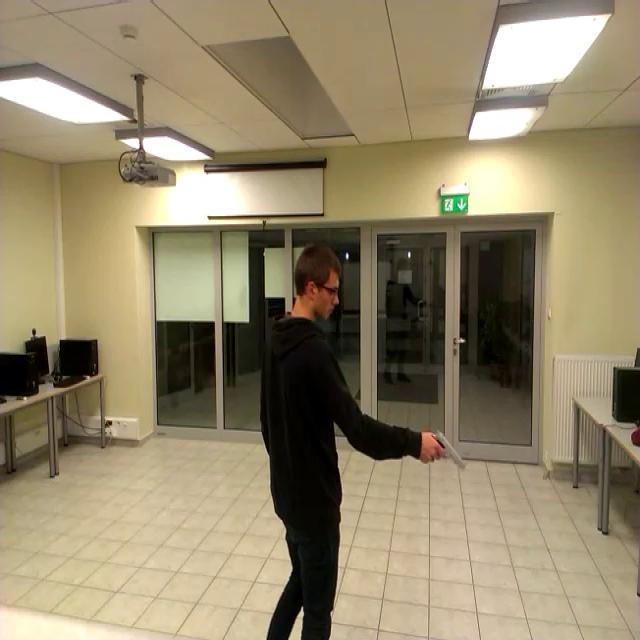Gun: (418, 423, 474, 480)
